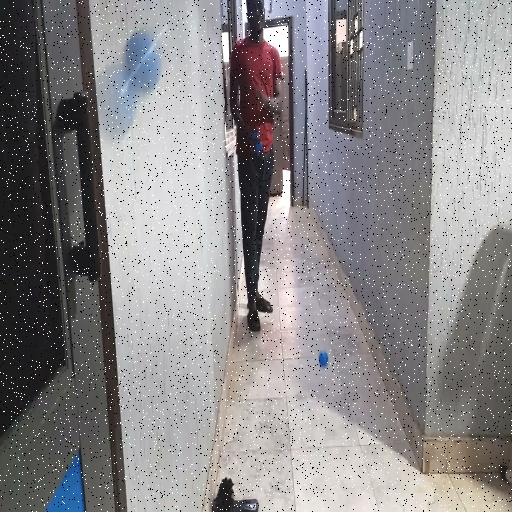plastic-ball: (96, 27, 160, 139)
